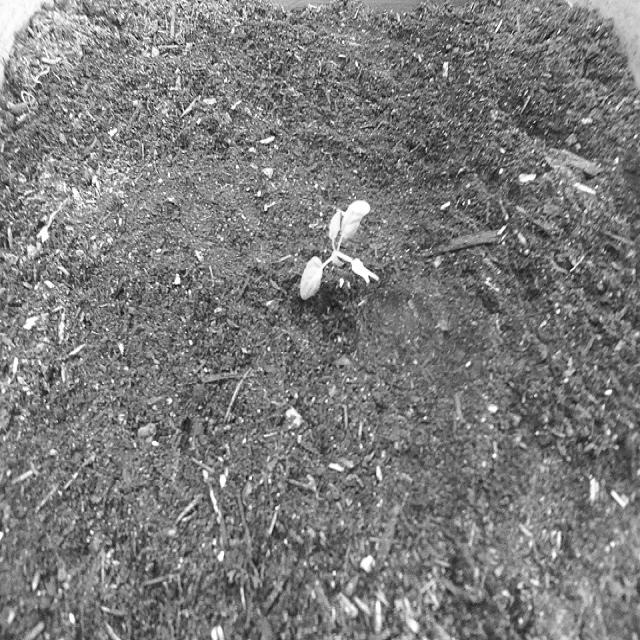Healthy: (297, 197, 382, 309)
